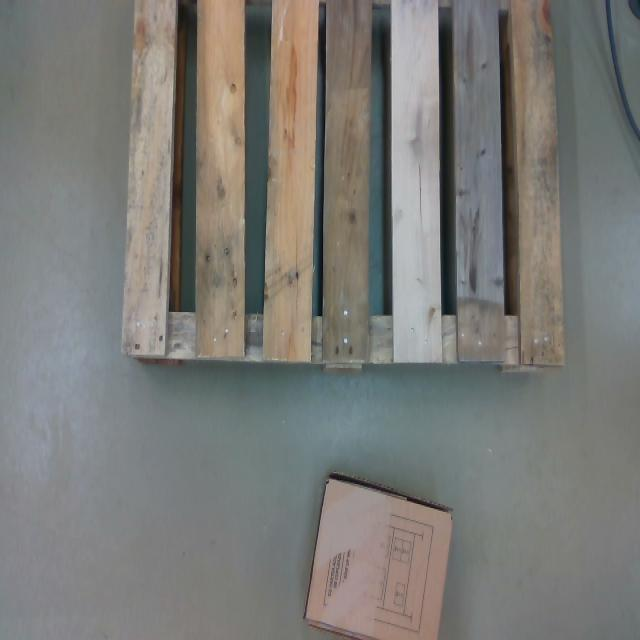pallet: (123, 0, 563, 366)
